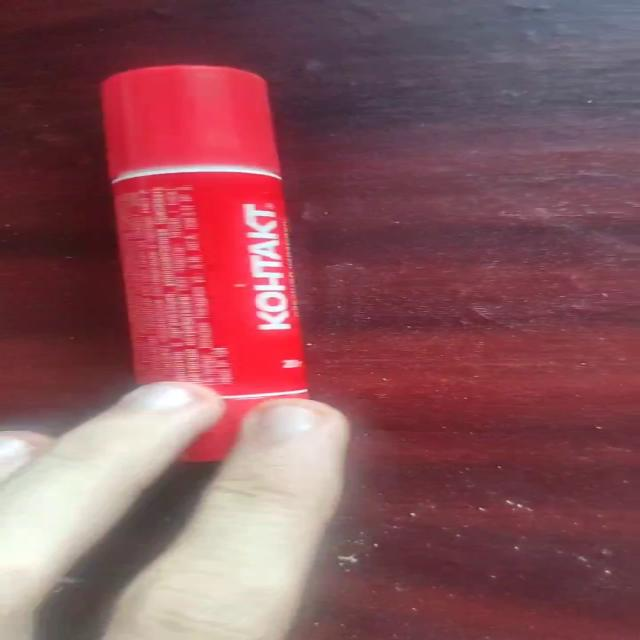glue: (98, 63, 311, 461)
